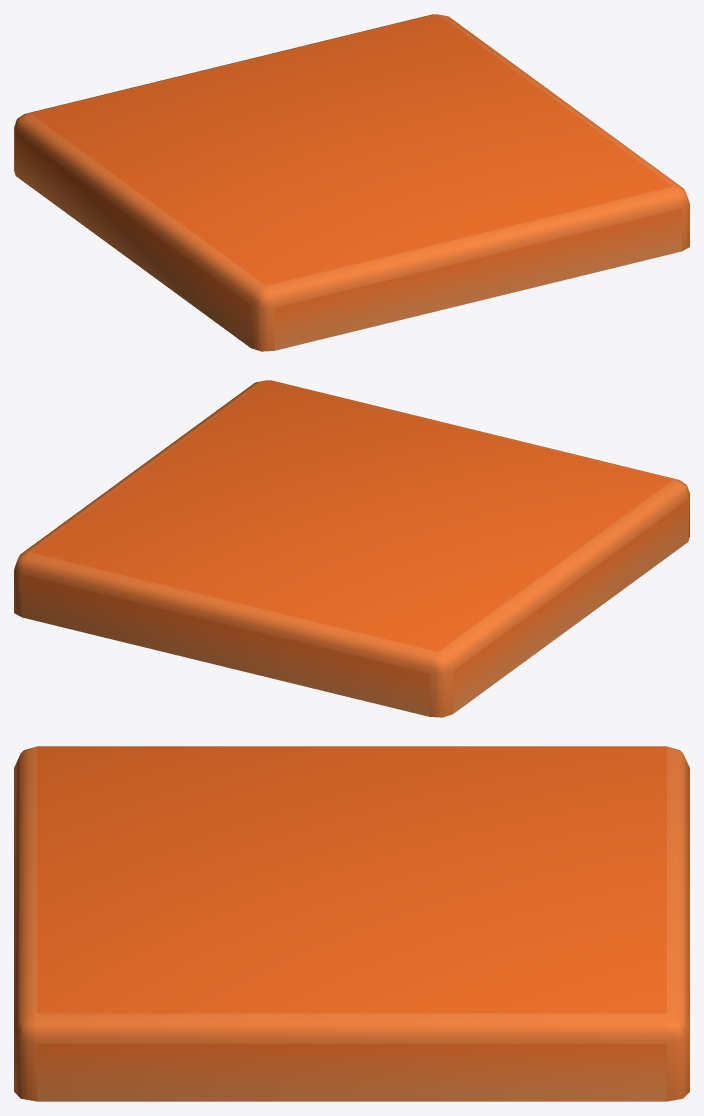
Rendered from obstacle-03.fbx.
The picture shows the model from 3 angles, top to bottom: view 1: azimuth 30°, elevation 25°; view 2: azimuth 150°, elevation 25°; view 3: azimuth 270°, elevation 25°; orthographic projection. The views are drawn at different scales.
Visible parts, largest first — view 1: obstacle-03; view 2: obstacle-03; view 3: obstacle-03.
Part boxes in pixels (x1=…): obstacle-03: x1=14, y1=14, x2=689, y2=351; obstacle-03: x1=14, y1=380, x2=689, y2=717; obstacle-03: x1=14, y1=746, x2=689, y2=1101.
Size of the model in its own units: 0.4766 by 0.061 by 0.4766.
1 material, 1 textured.
